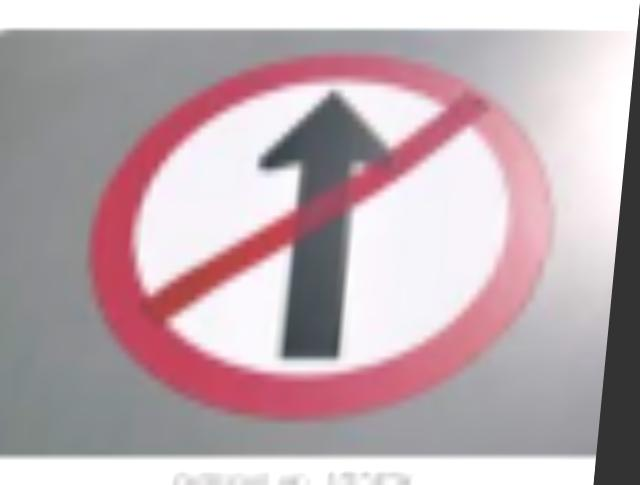not_go_straight: (67, 44, 571, 428)
